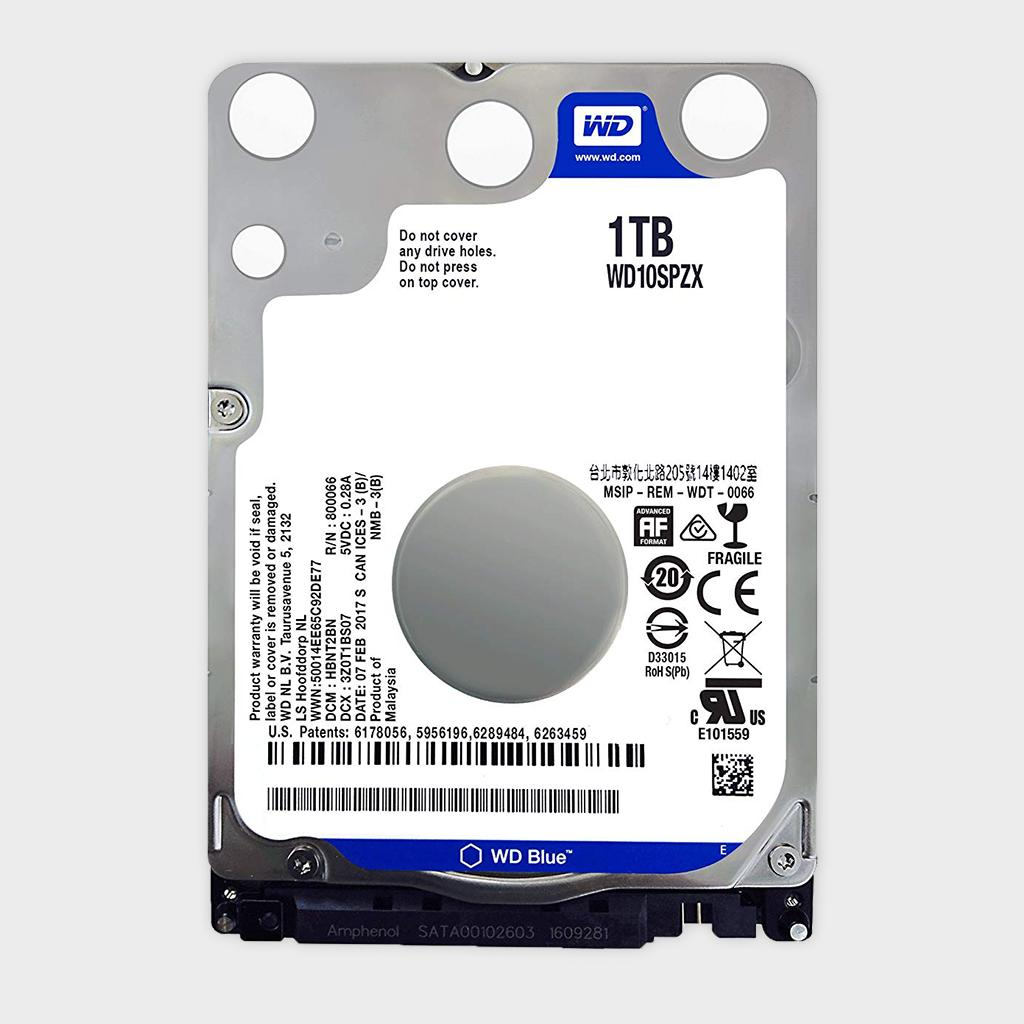internal HDD: (200, 55, 824, 952)
